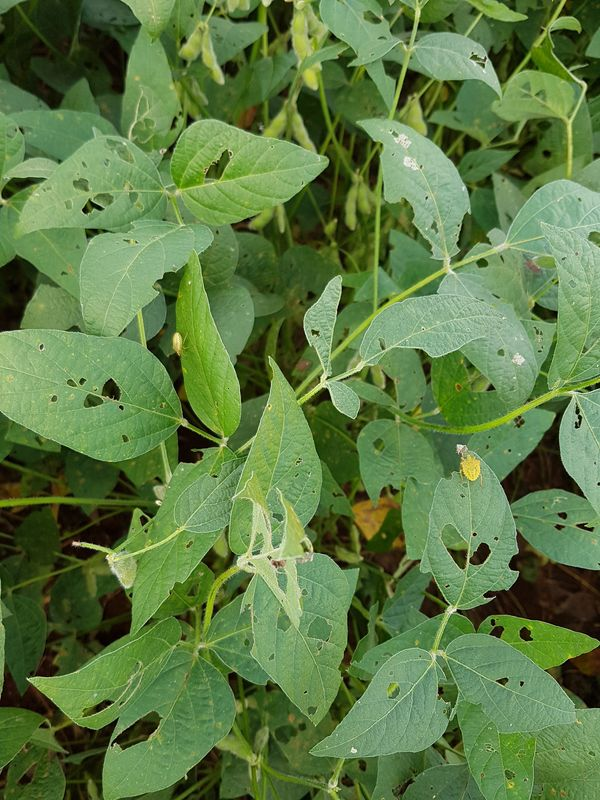Euschistus_heros_adulto: (518, 254, 546, 280), (290, 355, 316, 376)
Euschistus_heros_ninfa: (454, 450, 488, 489), (168, 328, 192, 360)
